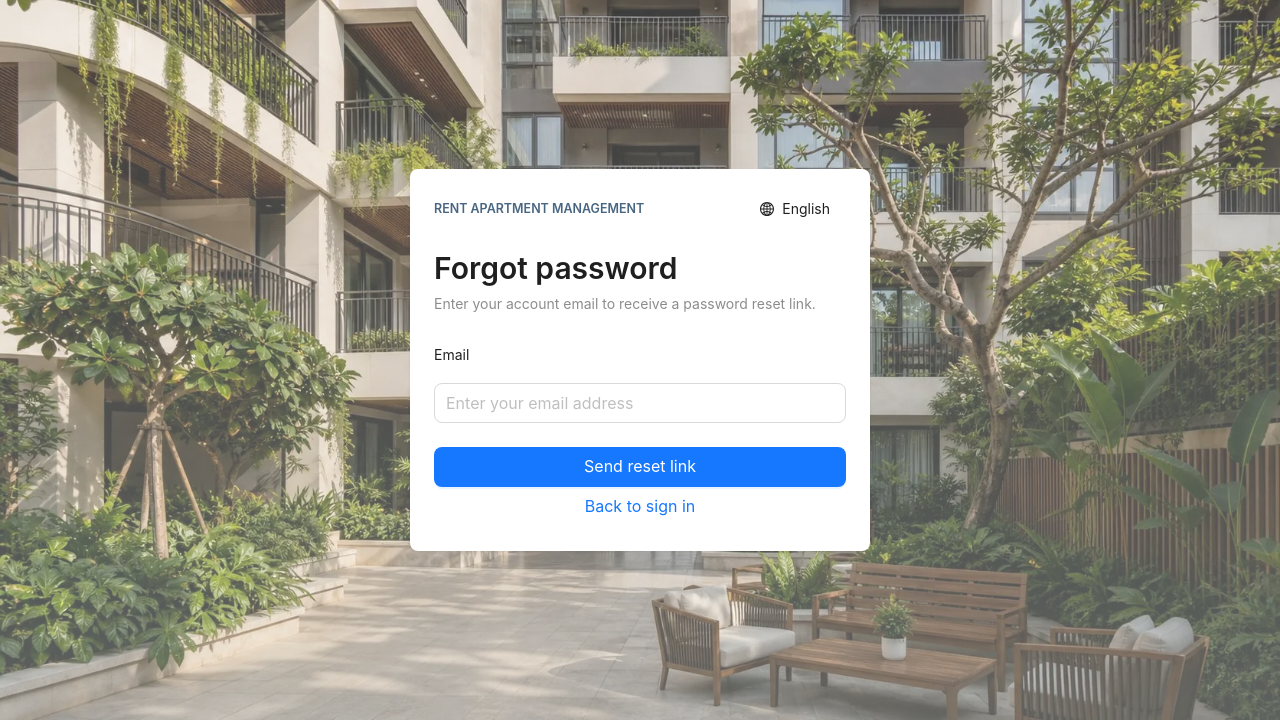
Test case: ForgotPasswordPage › keeps a meaningful API error visible
The width and height of the screenshot is (1280, 720).
Type "tenant@example.com" into the field labelled "Email" at (632, 403), box x1=446 y1=391 x2=818 y2=415
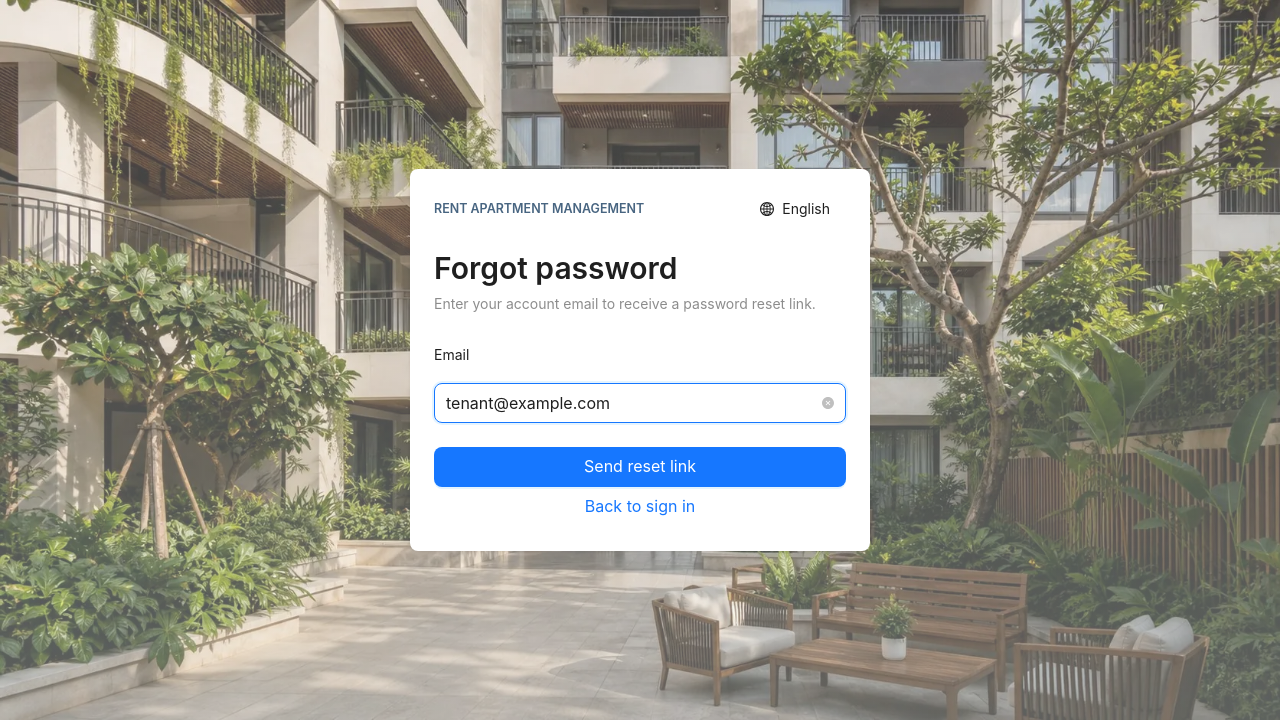
Click the button "Send reset link" at (640, 467), box x1=434 y1=447 x2=846 y2=487
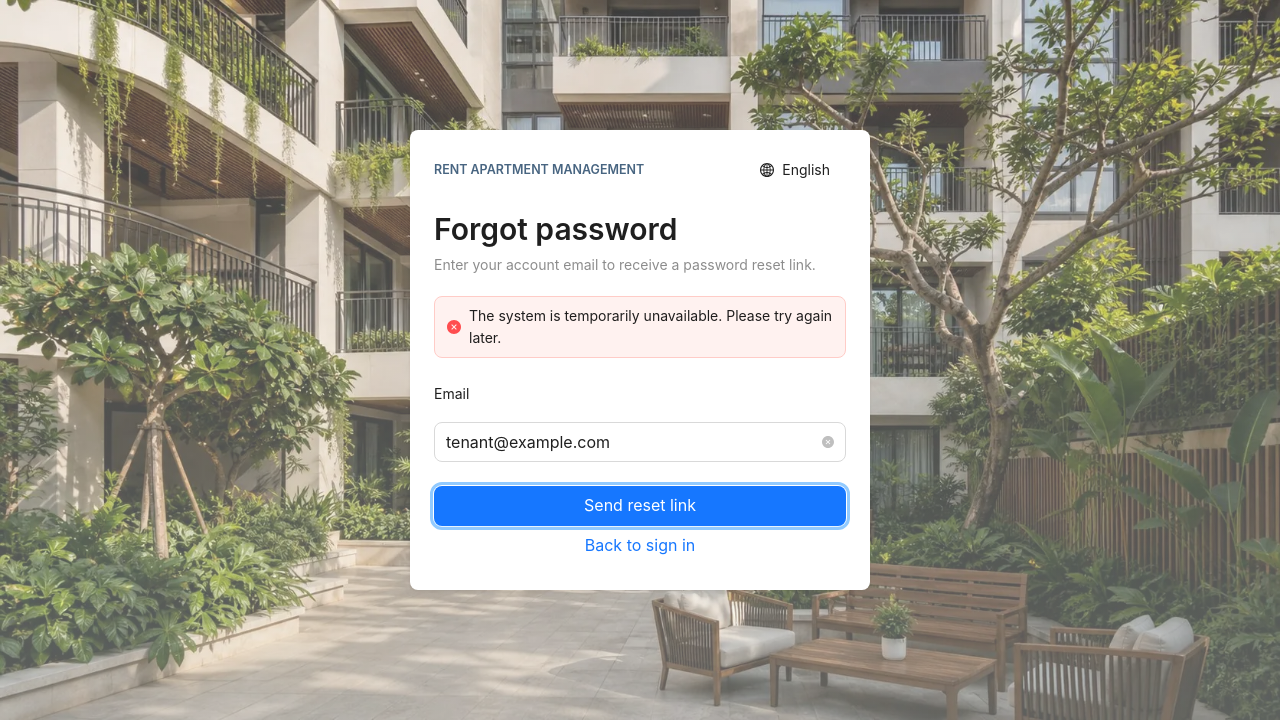
Check: the message reads "The system is temporarily unavailable. Please try again later.", box x1=469 y1=307 x2=832 y2=346
